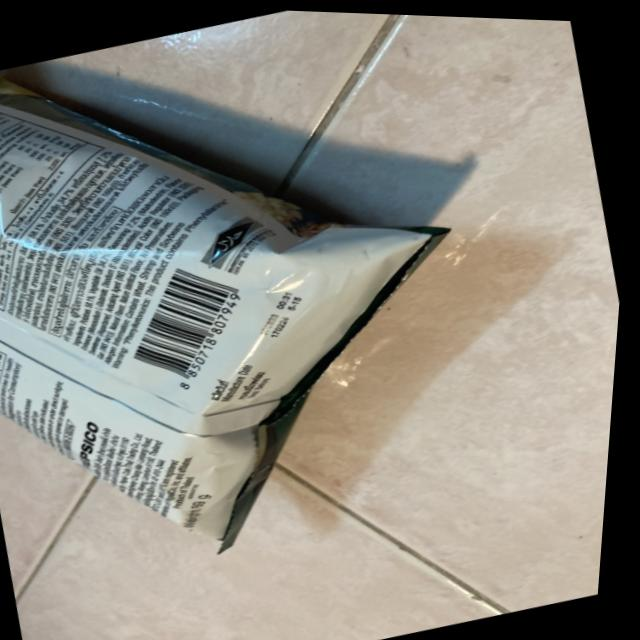Laygreen: (0, 0, 534, 622)
